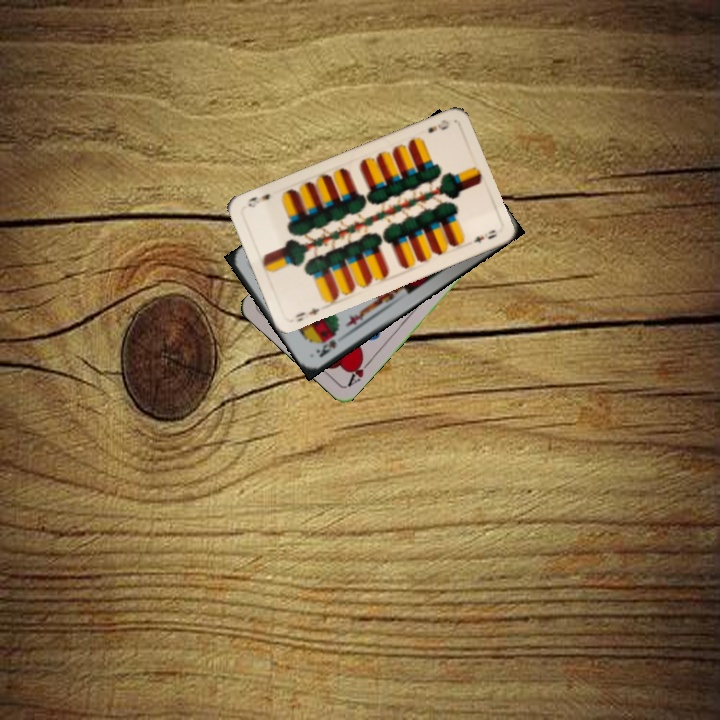E9: (291, 304, 322, 325), (424, 115, 452, 135)
HA: (343, 353, 375, 389)
SK: (312, 335, 339, 360)
